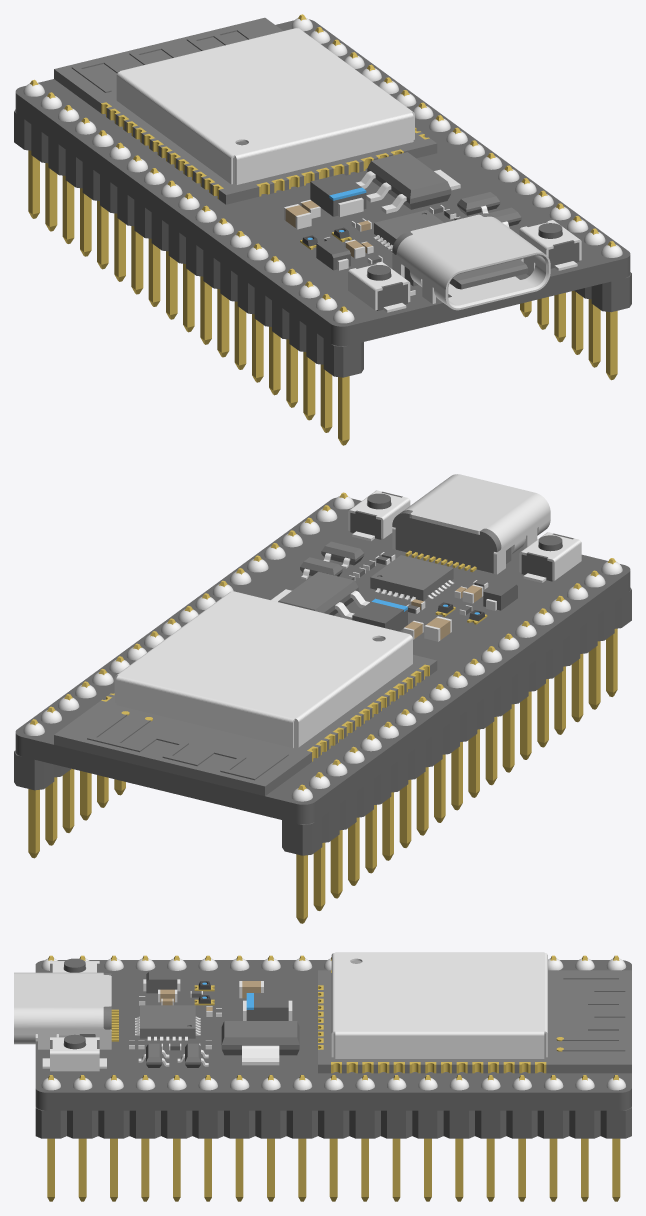
File: esp32.glb
The picture shows the model from 3 angles, top to bottom: view 1: azimuth 30°, elevation 25°; view 2: azimuth 150°, elevation 25°; view 3: azimuth 270°, elevation 25°; orthographic projection. The views are drawn at different scales.
Parts seen in each view (by area): view 1: Node1, Node3, Node2, Node4, Node5, Node8; view 2: Node1, Node3, Node4, Node2, Node5, Node8; view 3: Node1, Node3, Node4, Node2, Node5, Node8.
Part boxes in pixels (<box>): Node1: <box>14,19,631,377</box>; Node3: <box>23,18,622,323</box>; Node2: <box>28,14,617,445</box>; Node4: <box>54,17,528,289</box>; Node5: <box>373,214,550,310</box>; Node8: <box>285,200,372,257</box>; Node1: <box>14,491,631,855</box>; Node3: <box>23,490,622,801</box>; Node4: <box>54,510,511,795</box>; Node2: <box>28,492,617,923</box>; Node5: <box>375,474,550,600</box>; Node8: <box>405,585,481,639</box>; Node1: <box>35,958,631,1138</box>; Node3: <box>41,952,626,1090</box>; Node4: <box>79,970,631,1073</box>; Node2: <box>47,955,620,1201</box>; Node5: <box>14,972,200,1049</box>; Node8: <box>160,981,260,1010</box>.
Bounding box in the file's own units: 25.4 × 13.44 × 50.
